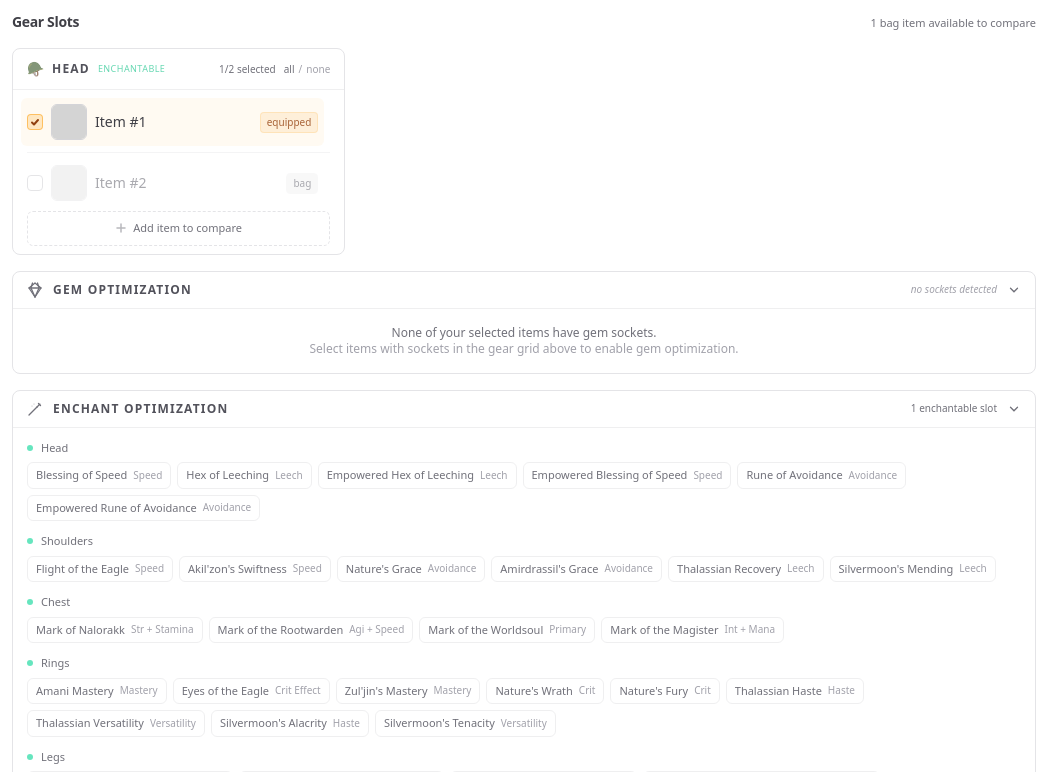
Test: GearPanel › "Select all" button is disabled when all items already selected
// Select all
Click the button with aria-label "Select all Head items": (289, 69) [284,62,295,76]
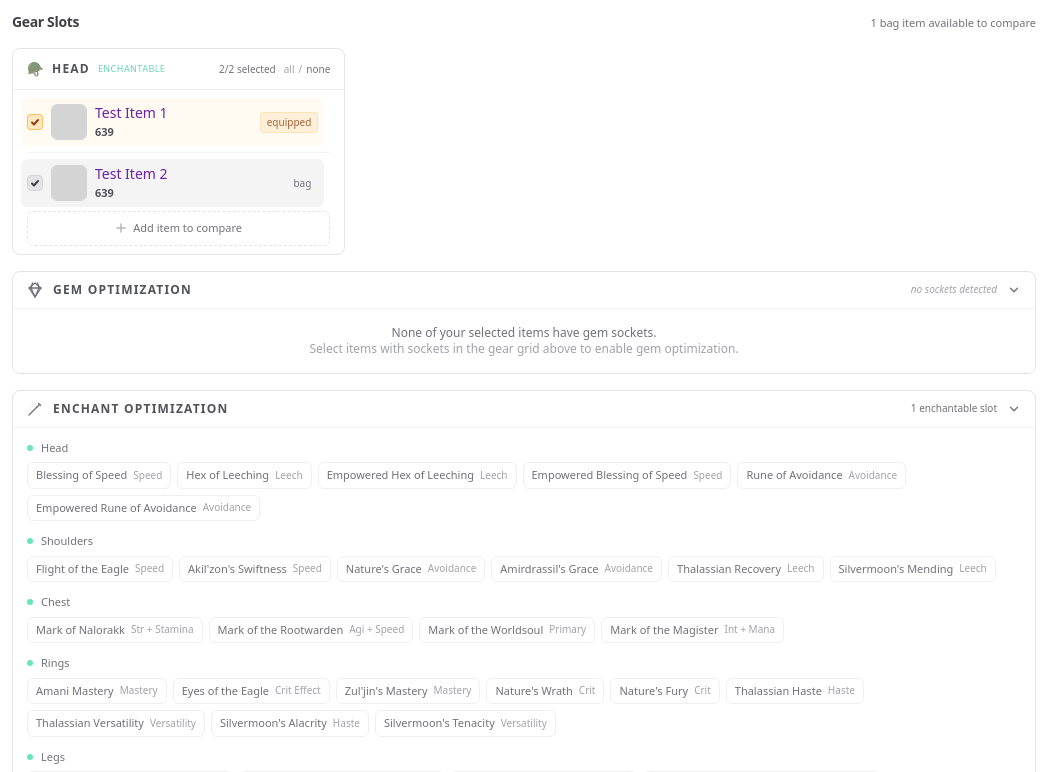
Expected: the button with aria-label "Select all Head items" is disabled, [284,62,295,76]
